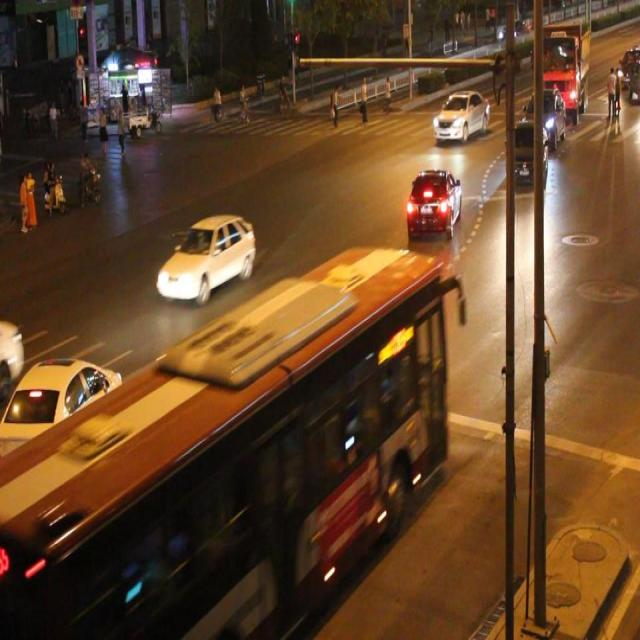car: (1, 353, 122, 493), (156, 214, 255, 297), (404, 168, 463, 239), (433, 90, 488, 140), (506, 120, 547, 184)
van: (0, 246, 442, 640)
